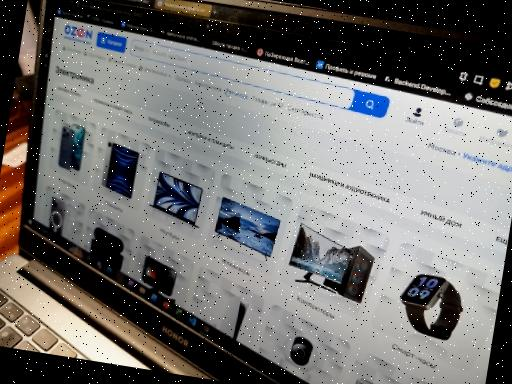ozon: (8, 18, 512, 384)
